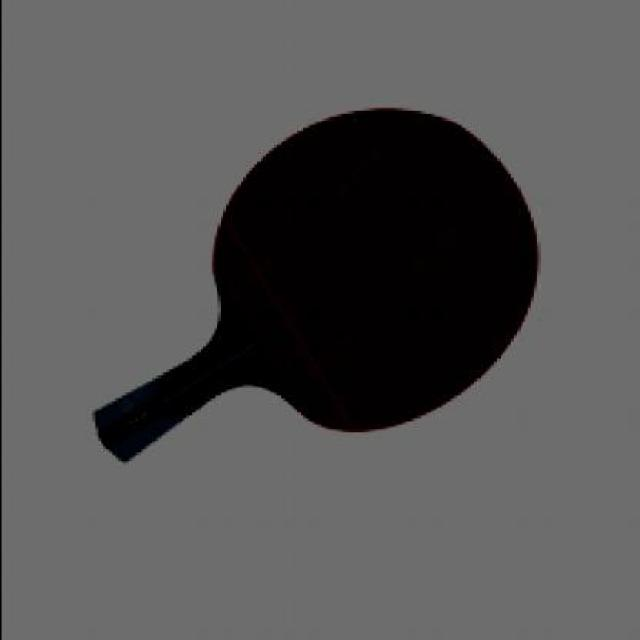table_tennis_racket: (202, 99, 542, 432)
